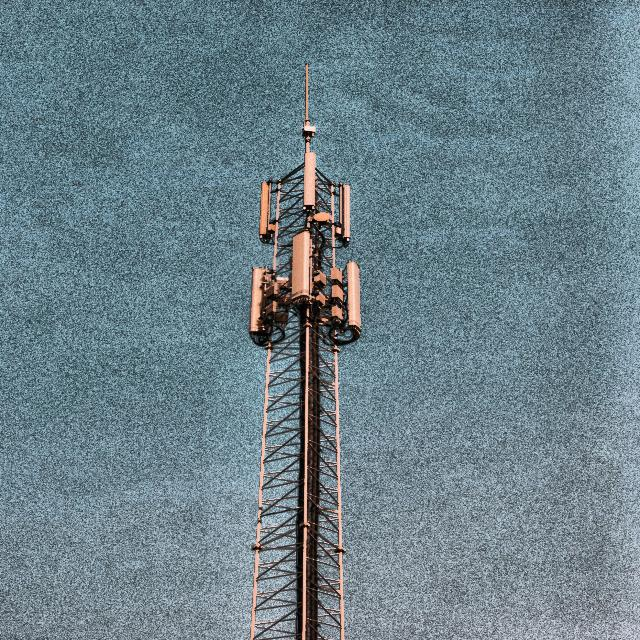antenna: (249, 267, 270, 345), (291, 230, 312, 301), (345, 261, 361, 339), (259, 181, 275, 242), (336, 183, 350, 243), (303, 151, 315, 207)
